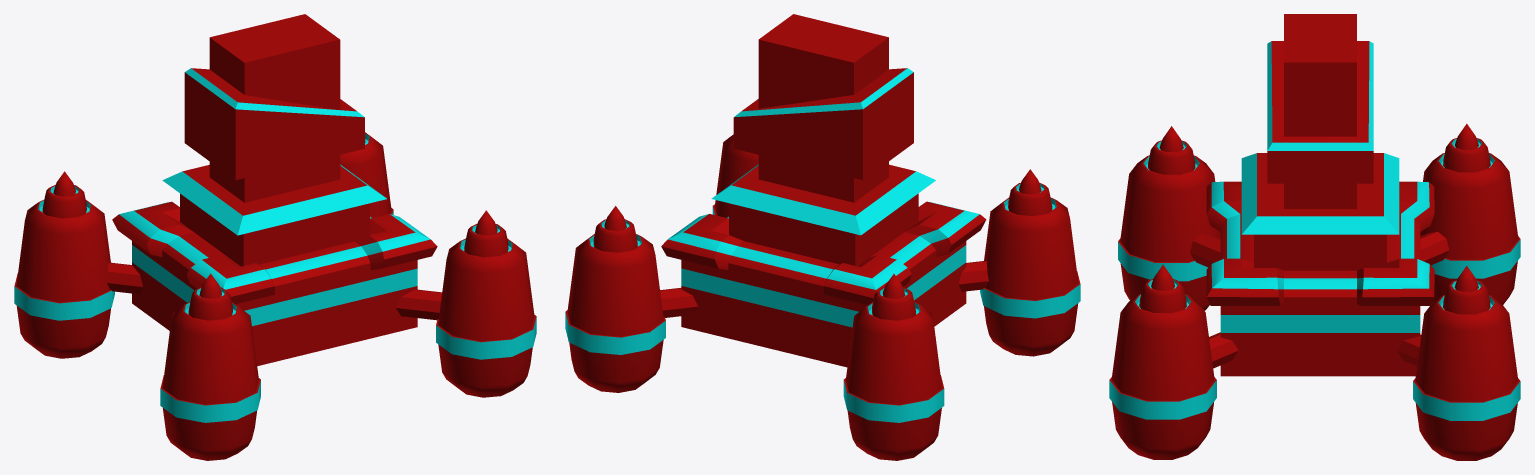
The model's file is GJ_Envrio_Kit_Buildings_HL_31-07-2019_v1.fbx.
3 renders of one model, left to right at view 1: azimuth 30°, elevation 25°; view 2: azimuth 150°, elevation 25°; view 3: azimuth 270°, elevation 25°, orthographic. The views are drawn at different scales.
Visible parts, largest first — view 1: Building_1_Market_Flat1; view 2: Building_1_Market_Flat1; view 3: Building_1_Market_Flat1.
Part boxes in pixels (x1,y1,x2,y2): Building_1_Market_Flat1: (14, 14, 536, 460); Building_1_Market_Flat1: (565, 14, 1080, 460); Building_1_Market_Flat1: (1109, 14, 1520, 460).
Bounding box in the file's own units: 1822 × 1585 × 1709.
